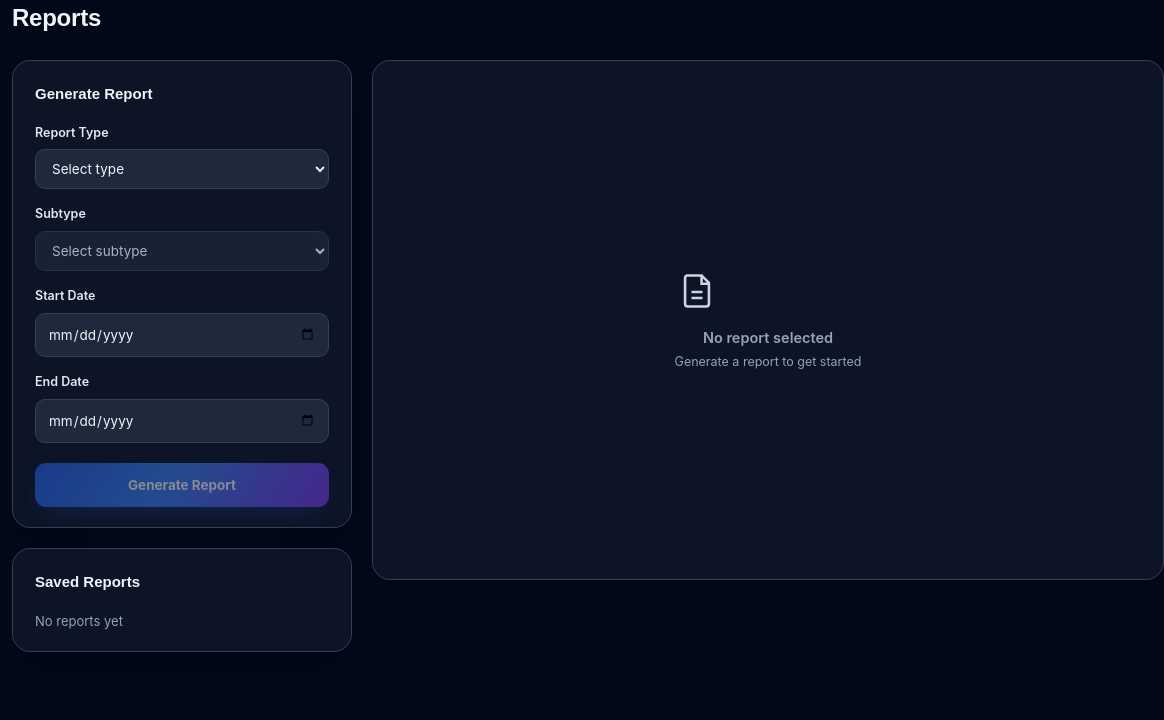
Test: FinlyHubReports › generates a report with backend enum values and renders the preview
Check: the text "No report selected" is shown, box [703,329,833,346]
Select "Profit & Loss" in the dropdown labelled "Report Type" at (182, 169), box [35,149,329,189]
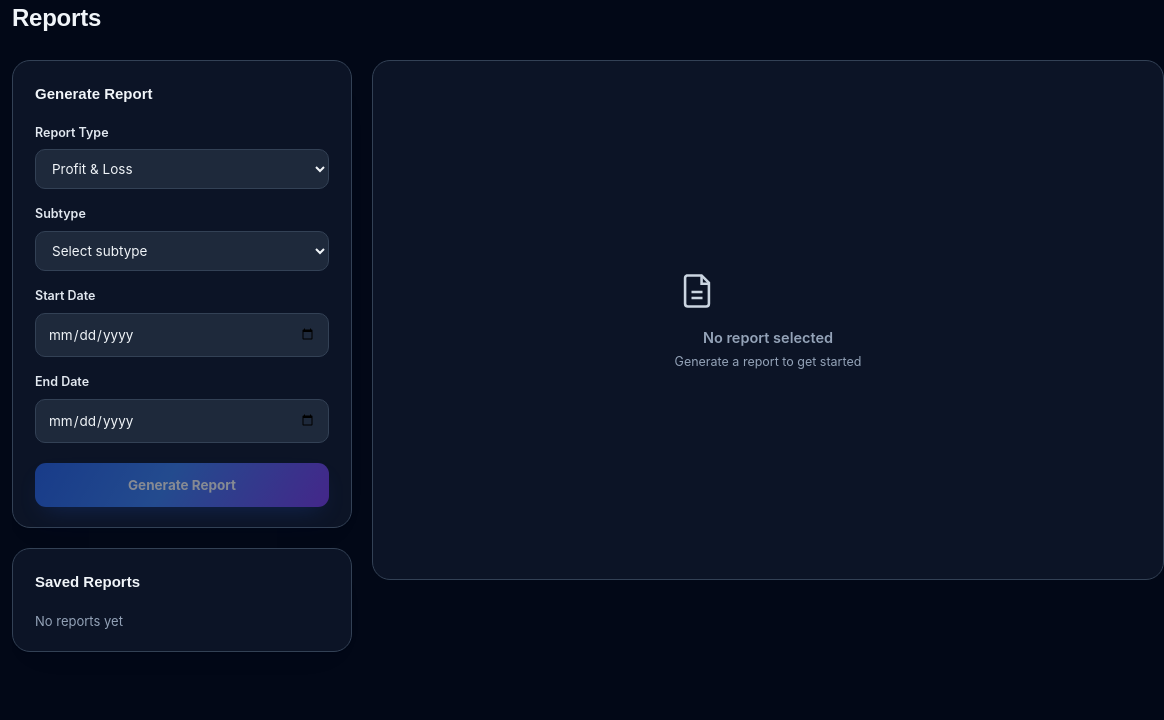
Select "Monthly" in the dropdown labelled "Subtype" at (182, 251), box [35,231,329,271]
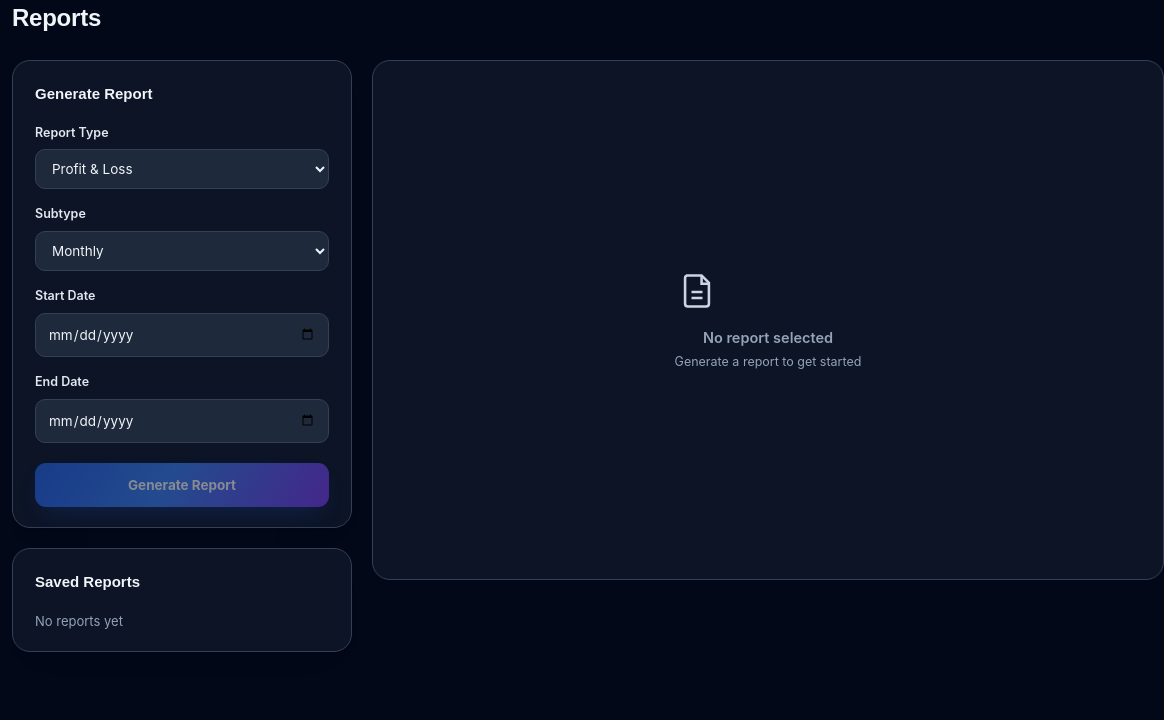
Type "2026-01-01" into the date field labelled "Start Date" at (182, 335), box [35,313,329,357]
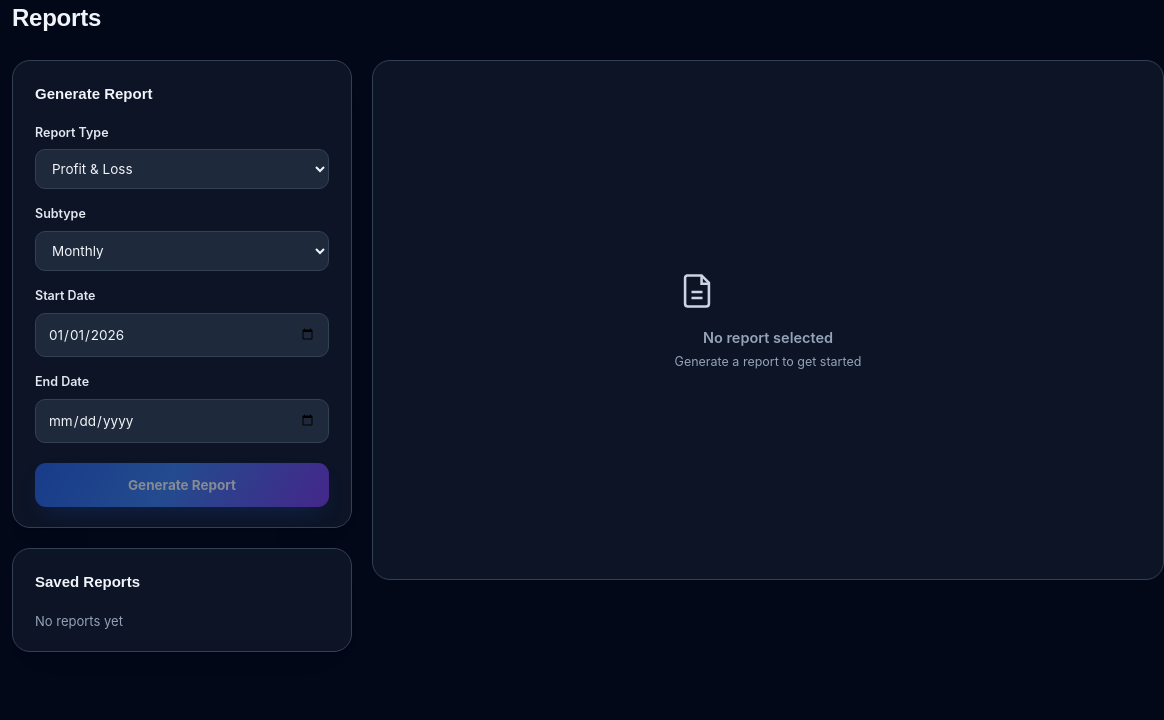
Type "2026-01-31" into the date field labelled "End Date" at (182, 421), box [35,399,329,443]
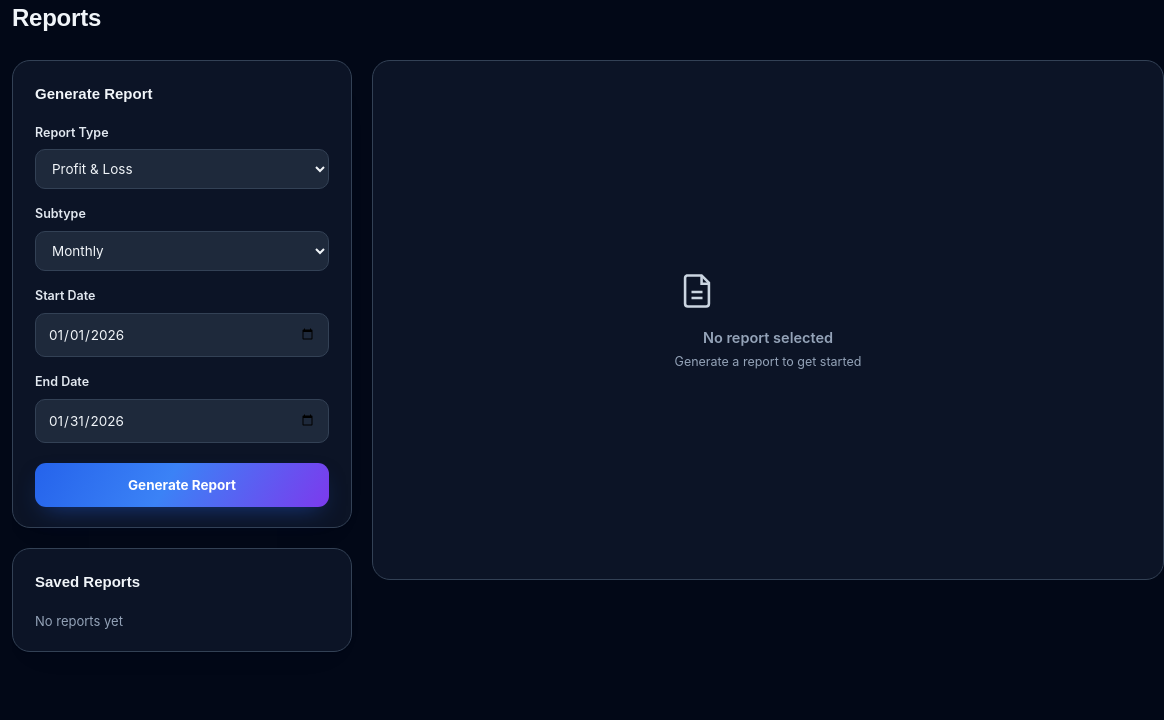
Click the button "Generate Report" at (182, 485), box [35,463,329,507]
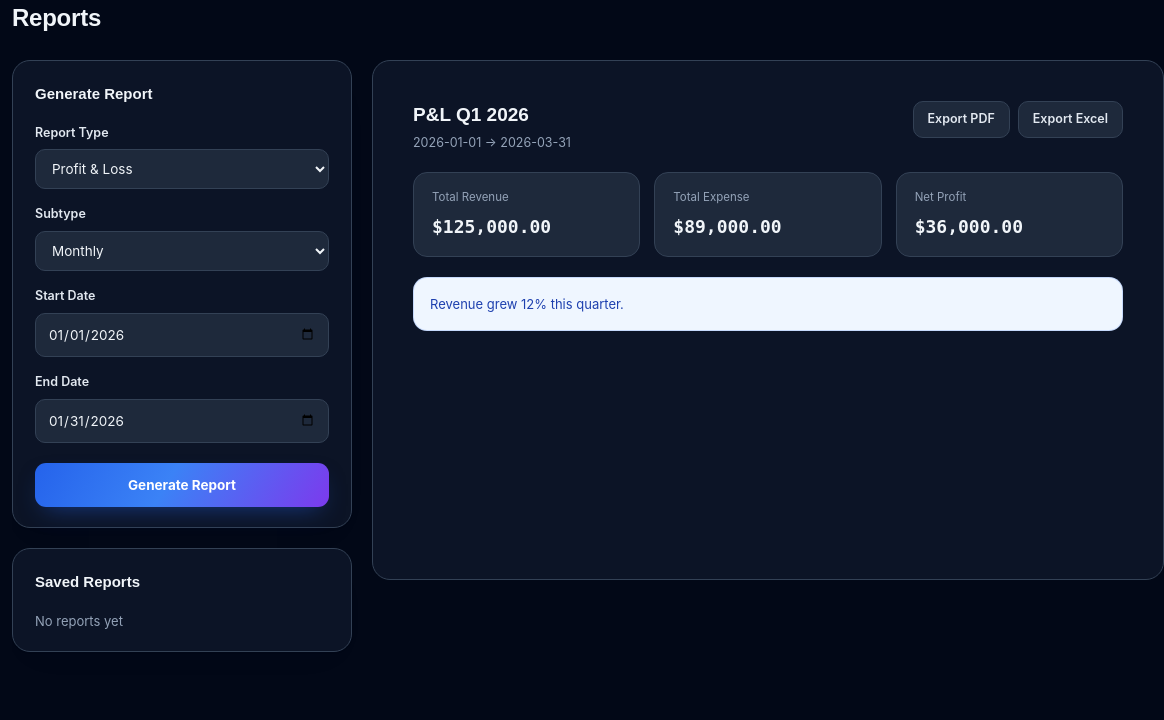
Check: the text "Total Revenue" is shown, box [432,190,509,204]
Check: the text "Revenue grew 12% this quarter." is shown, box [413,276,1123,331]
